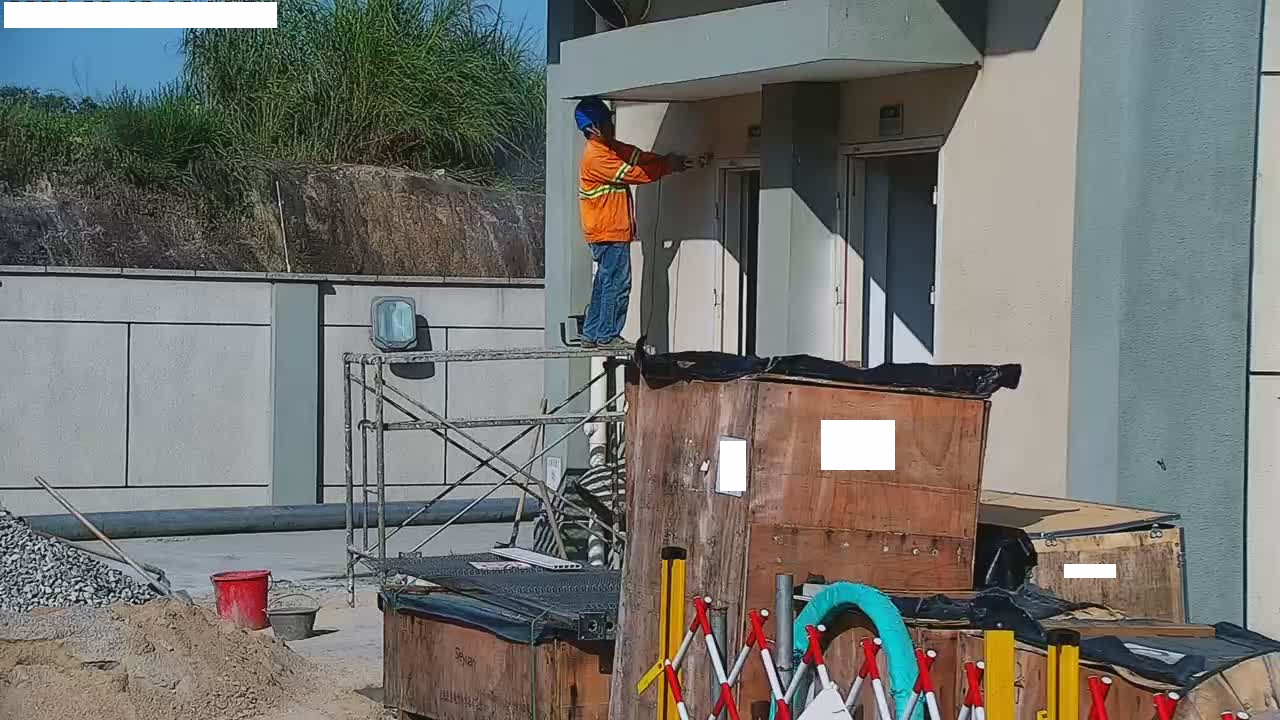hat: (570, 96, 621, 150)
